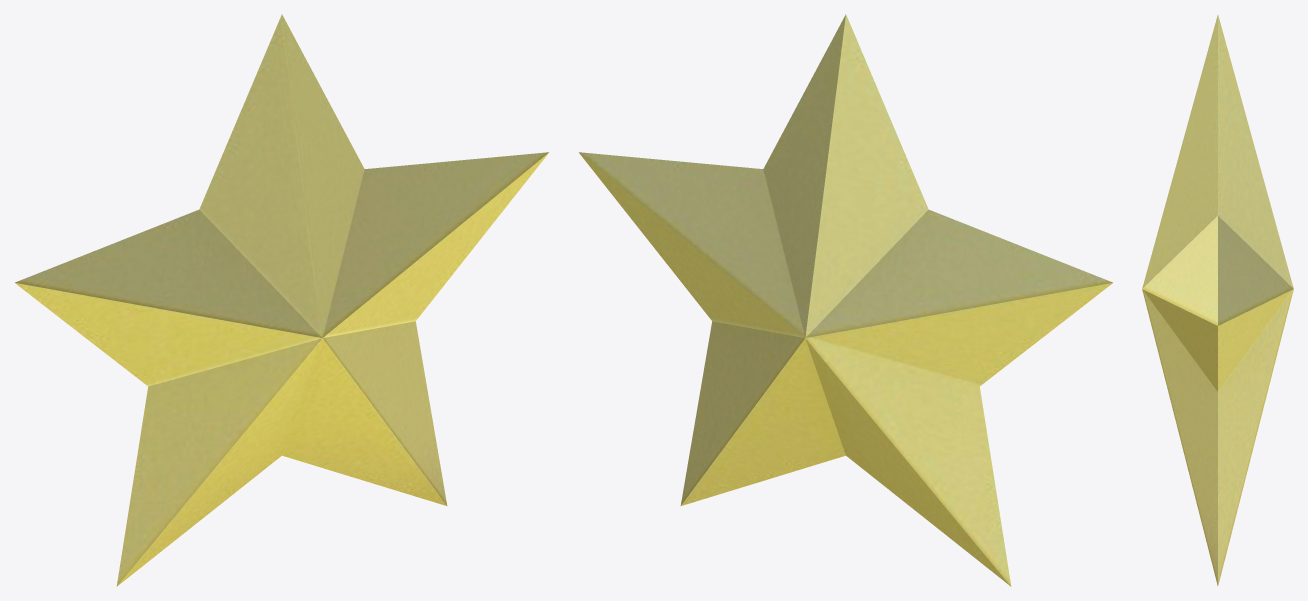
Rendered from star.obj.
3 views of the same model, side by side, from view 1: azimuth 30°, elevation 25°; view 2: azimuth 150°, elevation 25°; view 3: azimuth 270°, elevation 25° (orthographic). The views are drawn at different scales.
Parts seen in each view (by area): view 1: obj5.004; view 2: obj5.005; view 3: obj5.004, obj5.005.
Boxes of the visible parts, x1,y1,x2,y2 form: obj5.004: [15, 14, 548, 586]; obj5.005: [579, 14, 1112, 586]; obj5.004: [1142, 15, 1217, 585]; obj5.005: [1218, 15, 1293, 585].
Bounding box in the file's own units: 18.85 × 17.92 × 4.95.
1 material, 1 textured.
